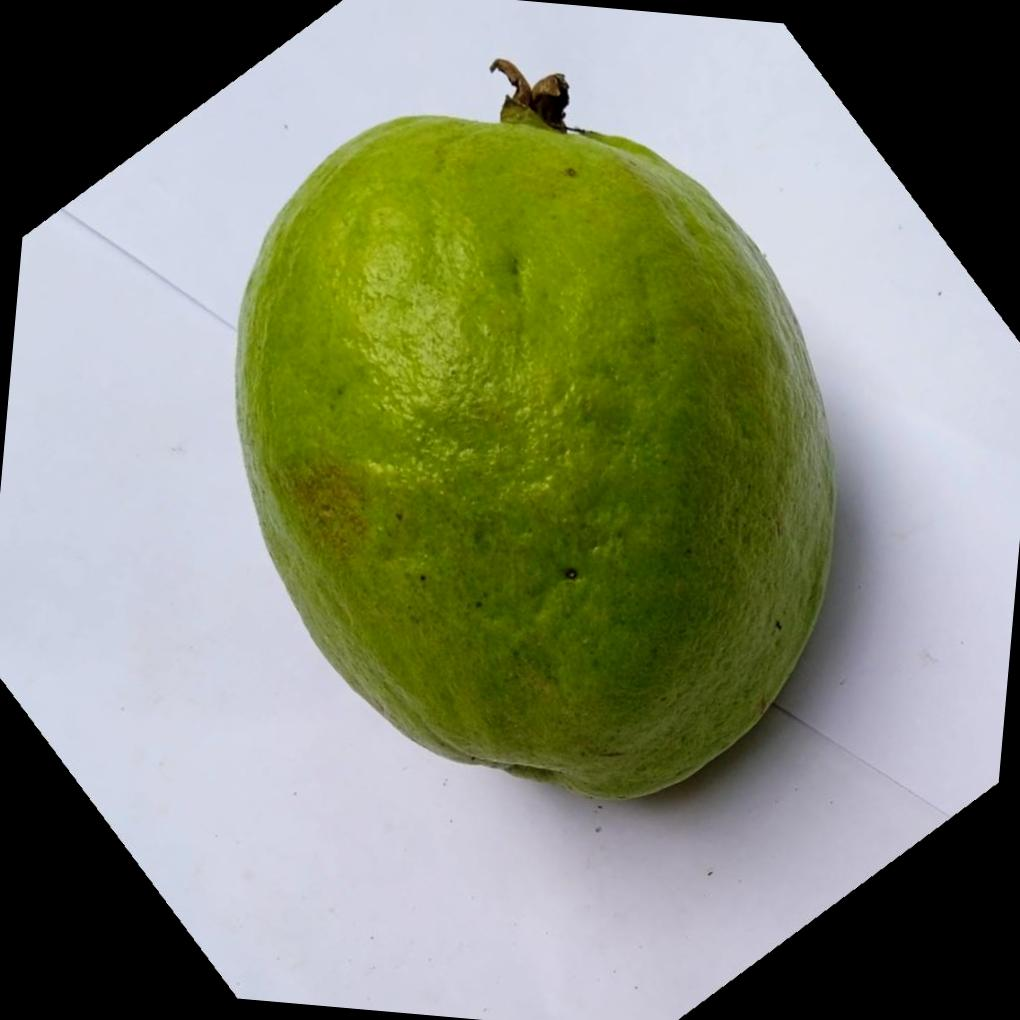FreshGuava: (236, 74, 841, 803)
